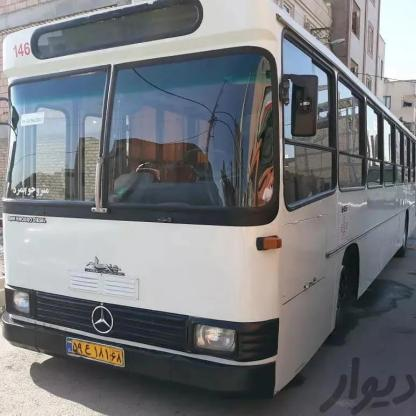Bus: (0, 0, 416, 391)
